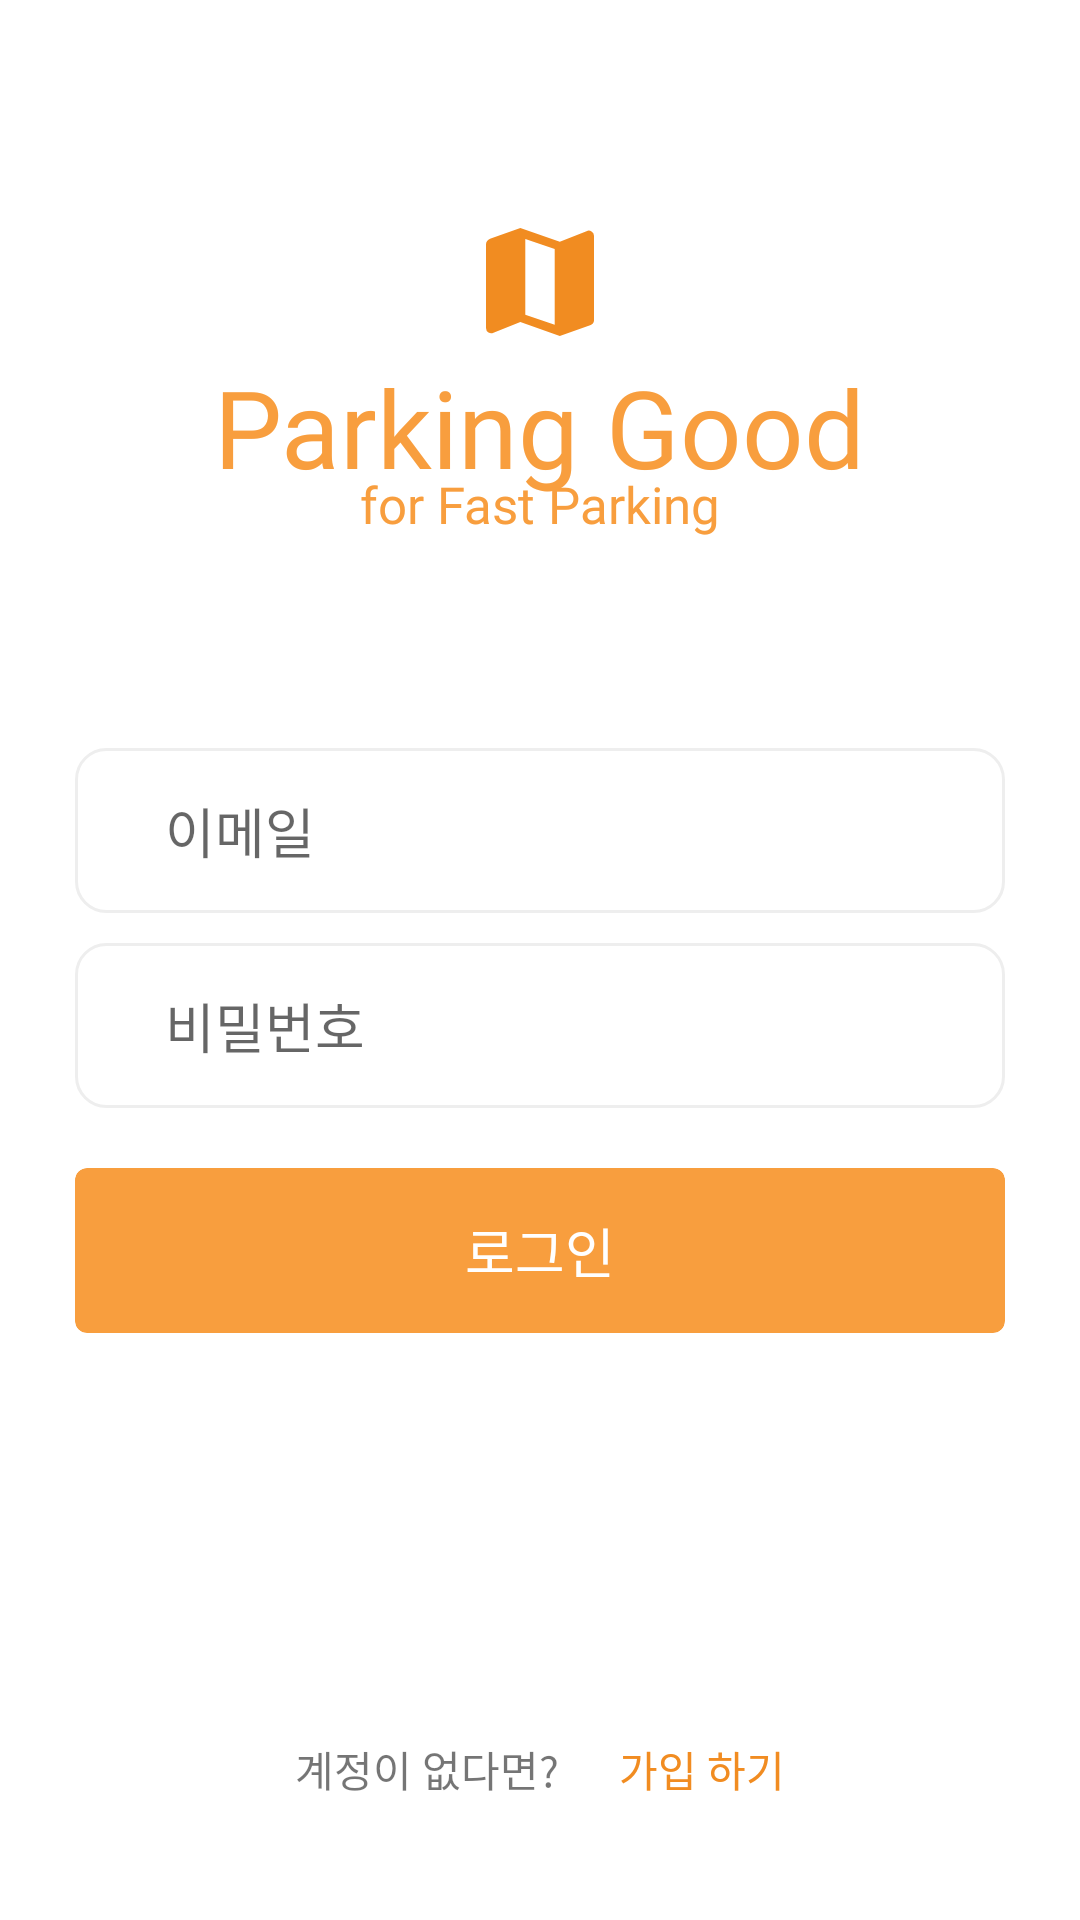

Screen size 1080x1920. Icon name, then its box in pixels as (x1, y1, x2, y2):
mapfll: (486, 228, 594, 336)
